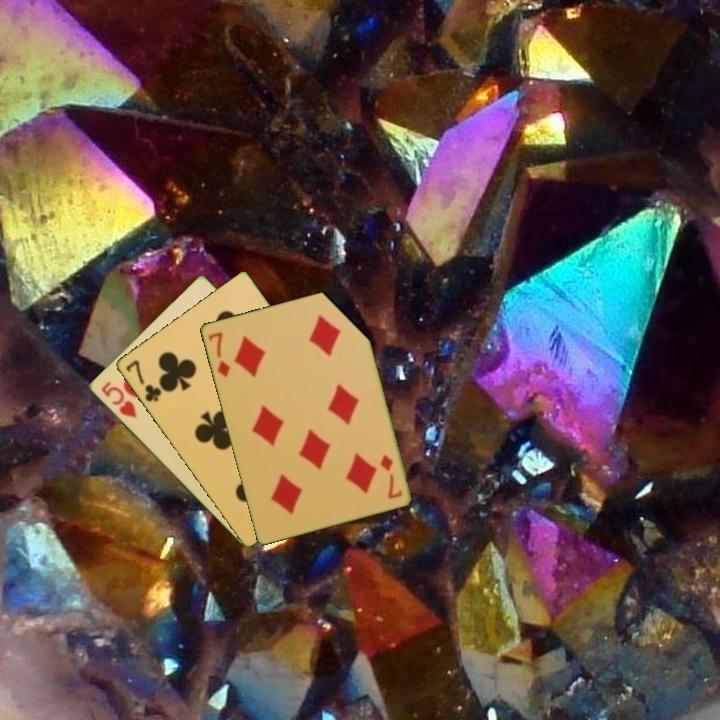5h: (97, 378, 140, 421)
7c: (122, 356, 164, 405)
7d: (204, 328, 233, 380), (376, 451, 404, 502)
